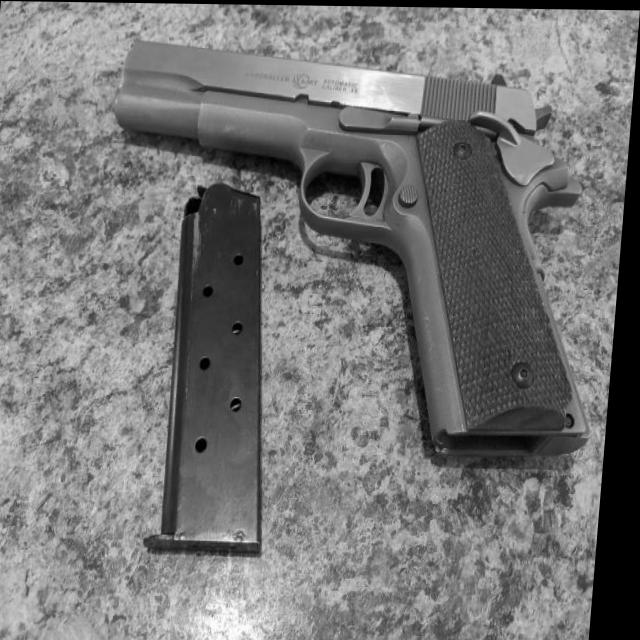handgun: (95, 36, 623, 447)
